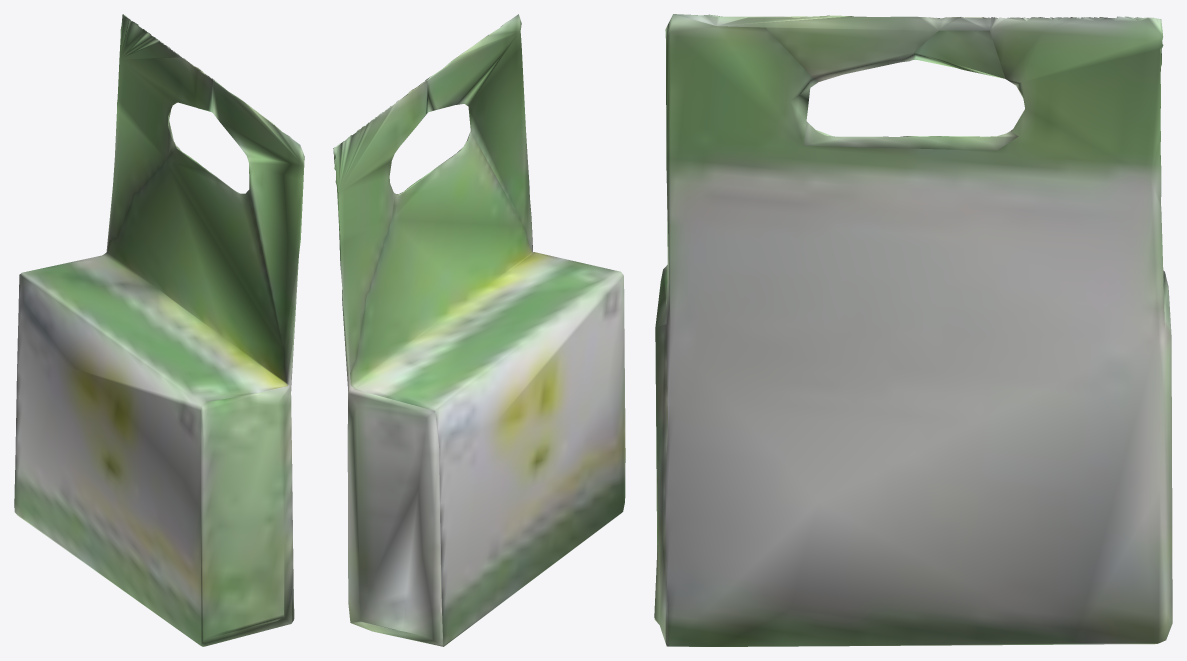
Rendered from Dell_Ink_Cartridge_Yellow_31-medium.glb.
The picture shows the model from 3 angles, left to right: view 1: azimuth 30°, elevation 25°; view 2: azimuth 150°, elevation 25°; view 3: azimuth 270°, elevation 25°; orthographic projection. The views are drawn at different scales.
Visible parts, largest first — view 1: Dell_Ink_Cartridge_Yellow_31; view 2: Dell_Ink_Cartridge_Yellow_31; view 3: Dell_Ink_Cartridge_Yellow_31.
Boxes of the visible parts, x1,y1,x2,y2 form: Dell_Ink_Cartridge_Yellow_31: (14, 14, 304, 646); Dell_Ink_Cartridge_Yellow_31: (333, 14, 625, 646); Dell_Ink_Cartridge_Yellow_31: (654, 14, 1172, 646).
Bounding box in the file's own units: 0.0335 × 0.1401 × 0.1017.
1 material, 1 textured.
